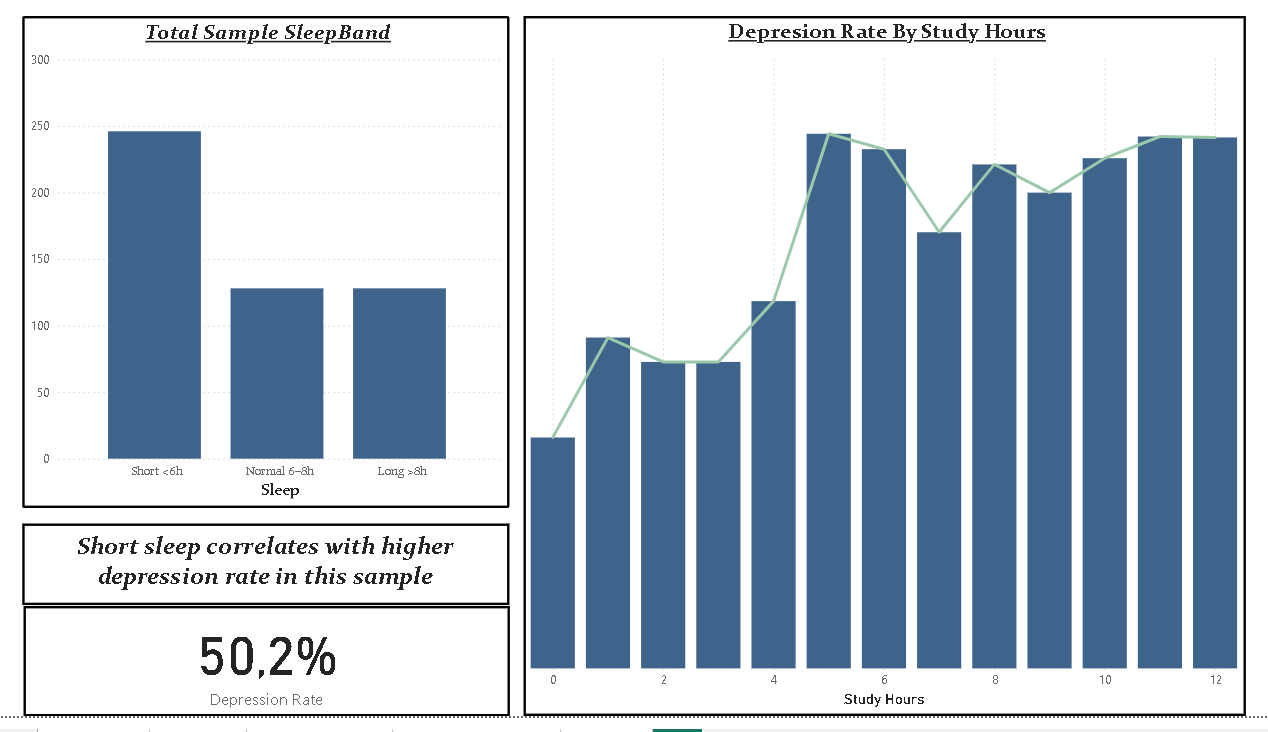

This screenshot's page, from the dashboard's own definition file:
{"tool":"powerbi","page":{"name":"Sleep & Study","canvas":[1280,720],"ordinal":2},"visuals":[{"type":"lineStackedColumnComboChart","title":"Total Sample SleepBand","fields":{"Category":["vw_students_bi.SleepBand"],"Y":["vw_students_bi.Students Count"]},"box":[26.8,20.4,487,492.1],"z":0},{"type":"lineStackedColumnComboChart","title":"Depresion Rate By Study Hours","fields":{"Category":["vw_students_bi.Study Hours"],"Y2":["vw_students_bi.Depression Rate"],"Y":["vw_students_bi.Depression Rate"]},"box":[527.5,20,722.5,700],"z":1},{"type":"textbox","box":[26.8,527.8,487,81.6],"z":2},{"type":"card","fields":{"Values":["vw_students_bi.Depression Rate"]},"box":[26.9,610.2,486.7,110.1],"z":3}]}

Visuals, with their boxes in screenshot pixels (x1, y1, x2, y2), scaled from the page's 1280x720 canvas onto the 1268x732 screenshot:
"Total Sample SleepBand" lineStackedColumnComboChart: bbox=[27, 21, 509, 521]
"Depresion Rate By Study Hours" lineStackedColumnComboChart: bbox=[523, 20, 1238, 731]
textbox: bbox=[27, 537, 509, 620]
card - vw_students_bi.Depression Rate: bbox=[27, 620, 509, 731]
